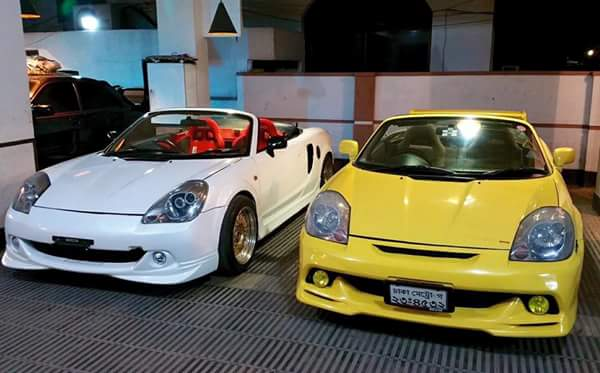registration_plate: (390, 284, 446, 312)
